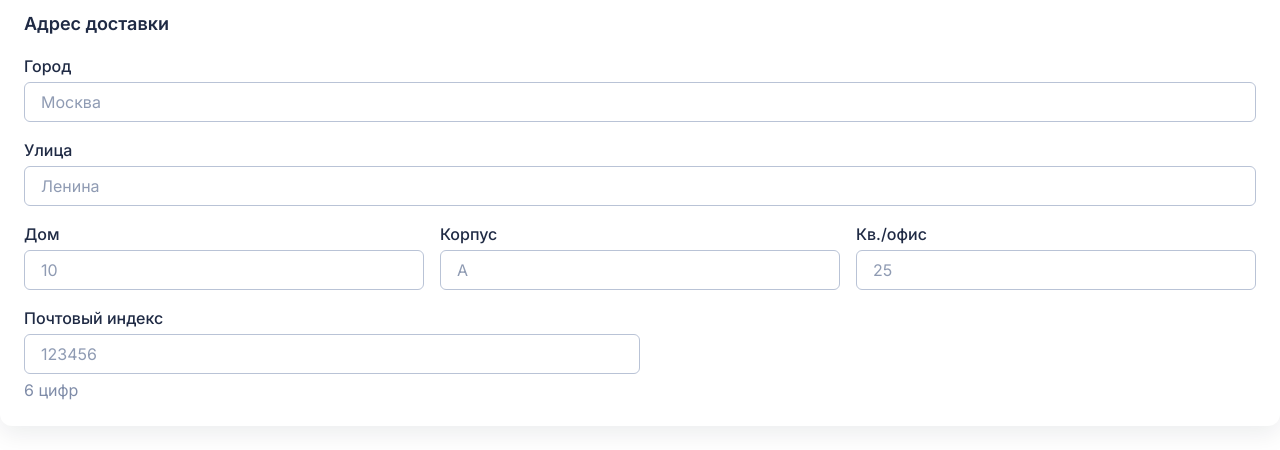
it: AddressSection › Валидация почтового индекса › должен показывать ошибку для индекса != 6 цифр
Type "12345" into the field labelled "Почтовый индекс" at (332, 354), box [24,334,640,374]
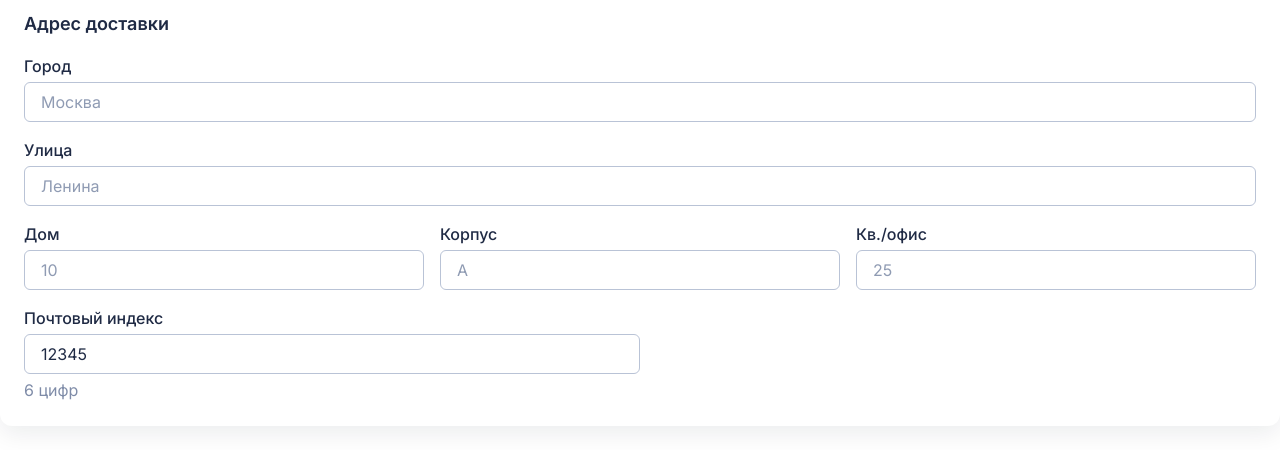
Leave the field labelled "Почтовый индекс", box [24,334,640,374]
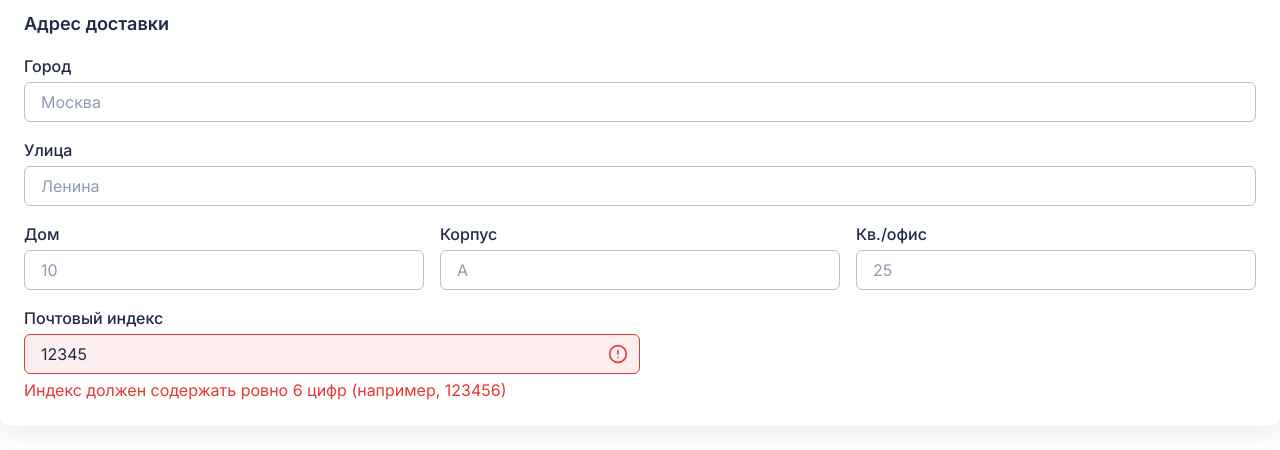
Result: the text "Индекс должен содержать ровно 6 цифр (например, 123456)" is shown at [24,380,507,400]
